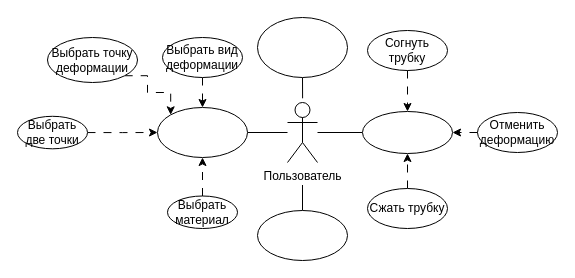
Image size: 575x278. Some labels were removed from this diagram. Each missing label, with the centre of its shape:
Выбрать направление дейформации: (x=302, y=47)
Выбрать параметры деформации: (x=202, y=132)
Деформировать: (x=407, y=132)
Получить статистику: (x=302, y=235)
